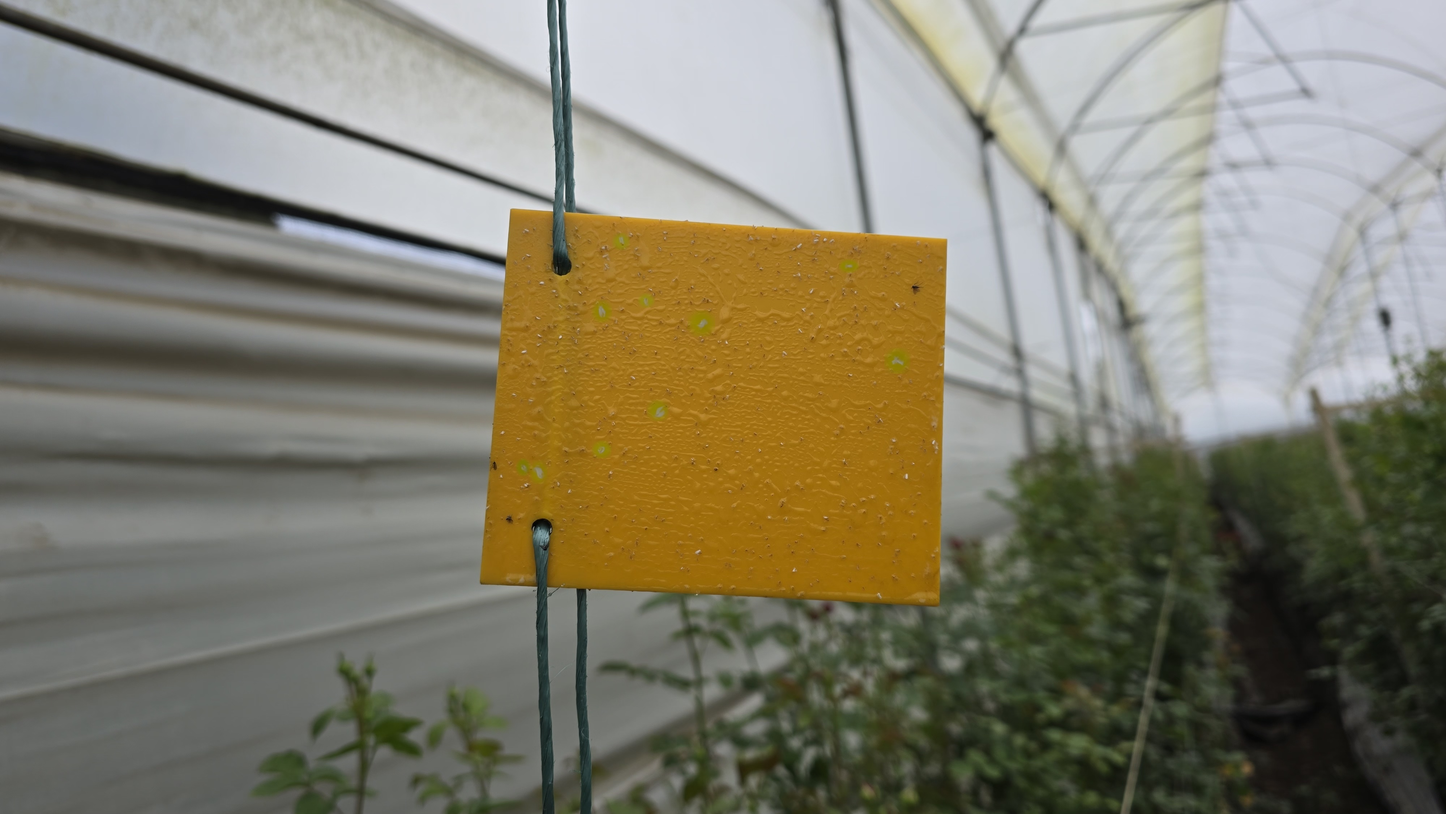WF: (692, 314, 711, 333), (888, 351, 906, 370), (650, 403, 665, 418), (595, 303, 609, 319), (532, 464, 544, 480), (595, 443, 608, 455), (615, 235, 627, 247), (842, 261, 856, 271), (518, 461, 528, 473), (640, 295, 652, 305), (876, 592, 883, 601), (523, 228, 531, 235), (894, 303, 901, 310), (903, 473, 910, 480), (525, 253, 533, 259), (694, 550, 702, 556), (520, 350, 529, 355), (604, 254, 610, 261), (537, 333, 543, 340), (630, 375, 637, 381), (792, 567, 799, 573), (801, 307, 807, 314), (797, 243, 803, 250), (810, 288, 815, 296), (628, 233, 634, 239), (500, 430, 506, 436), (567, 489, 573, 495), (782, 351, 788, 357), (564, 368, 569, 375), (890, 438, 897, 443), (539, 281, 545, 286), (536, 316, 542, 321), (512, 393, 518, 398), (716, 340, 722, 345), (798, 328, 803, 334), (749, 236, 754, 242), (848, 373, 854, 378), (931, 439, 936, 445), (934, 446, 940, 451), (813, 240, 820, 244), (578, 291, 583, 296), (558, 335, 563, 340), (527, 482, 532, 487), (486, 505, 491, 510), (609, 471, 614, 476), (724, 340, 729, 345), (830, 239, 835, 244), (939, 363, 944, 368), (603, 245, 607, 251), (663, 232, 669, 236), (658, 246, 662, 252), (552, 290, 558, 294), (814, 236, 820, 240), (823, 515, 829, 519), (664, 236, 668, 241), (500, 474, 504, 479), (524, 484, 528, 489), (557, 482, 561, 487), (705, 444, 710, 448), (823, 238, 827, 243), (817, 234, 822, 238), (754, 226, 758, 231), (767, 516, 772, 520), (943, 345, 946, 351), (758, 449, 762, 453), (818, 325, 821, 330), (912, 462, 915, 466)
